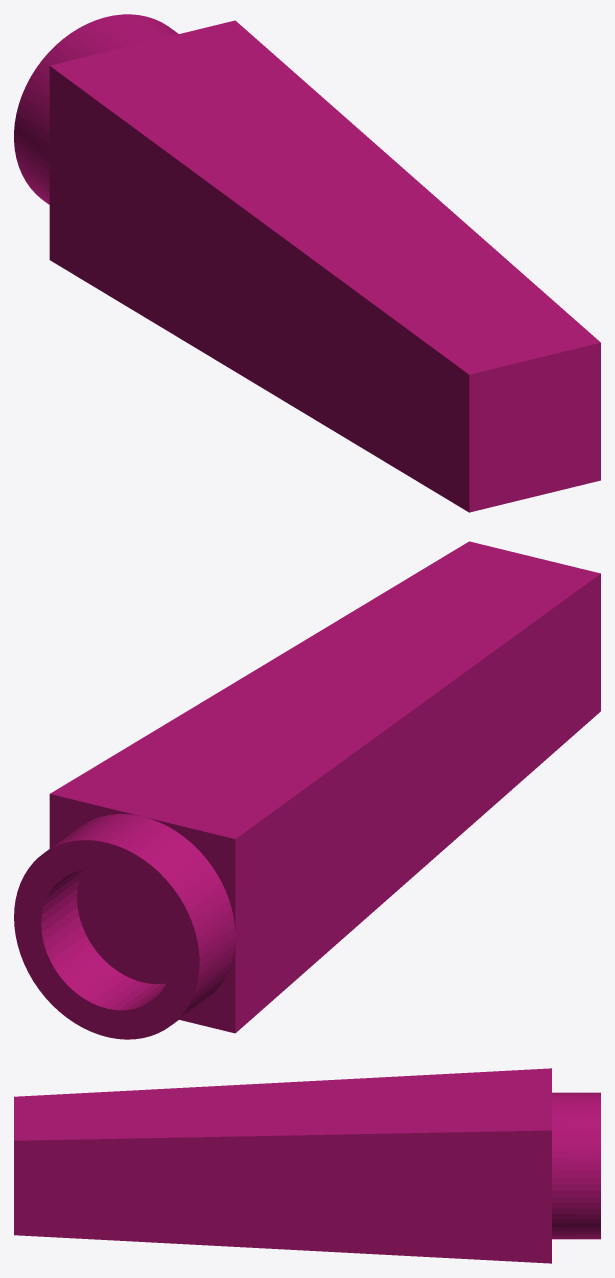
3 views of the same model, one above another, from view 1: azimuth 30°, elevation 25°; view 2: azimuth 150°, elevation 25°; view 3: azimuth 270°, elevation 25° (orthographic). The views are drawn at different scales.
Parts seen in each view (by area): view 1: node; view 2: node; view 3: node.
Part boxes in pixels (x1=…): node: x1=14, y1=14, x2=600, y2=512; node: x1=14, y1=541, x2=600, y2=1039; node: x1=14, y1=1068, x2=600, y2=1263.
Size of the model in its own units: 0.0211 by 0.0211 by 0.0845.
